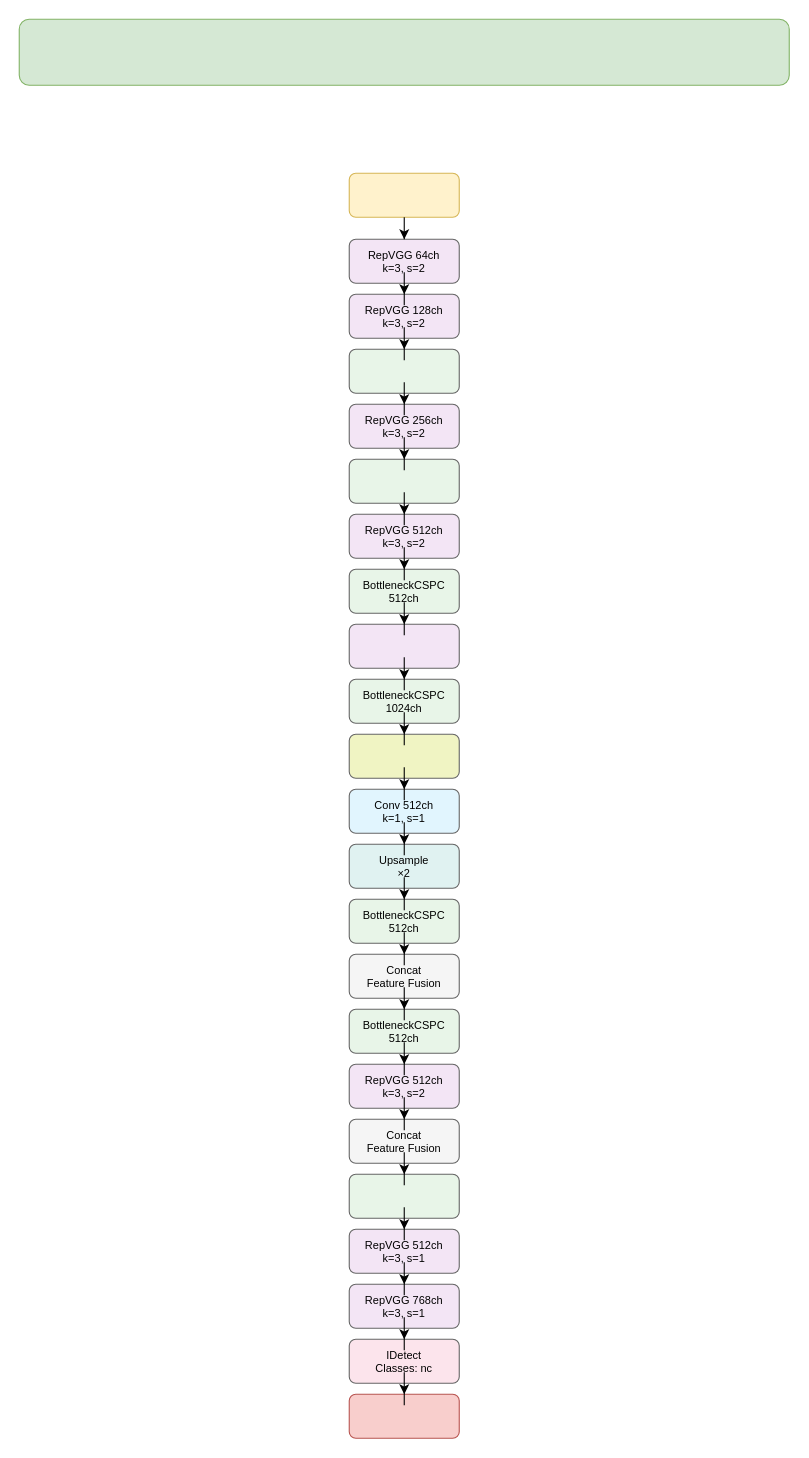
The diagram is 809 pixels wide and 1458 high, and some of its shapes have lost their labels. Here are the shapes that lost their labels. From the top down, the centre of each, then its label:
At (x=403, y=51): "YOLOv4-RepVGG RepVGG卷积 + CSP backbone + IDetect检测头".
At (x=403, y=194): "Input Image 640×640×3".
At (x=403, y=370): "BottleneckCSPC 128ch".
At (x=403, y=480): "BottleneckCSPC 256ch".
At (x=403, y=645): "RepVGG 1024ch k=3, s=2".
At (x=403, y=755): "SPPF 1024ch, k=5".
At (x=403, y=1195): "BottleneckCSPC 768ch".
At (x=403, y=1415): "Output Detection Results".
